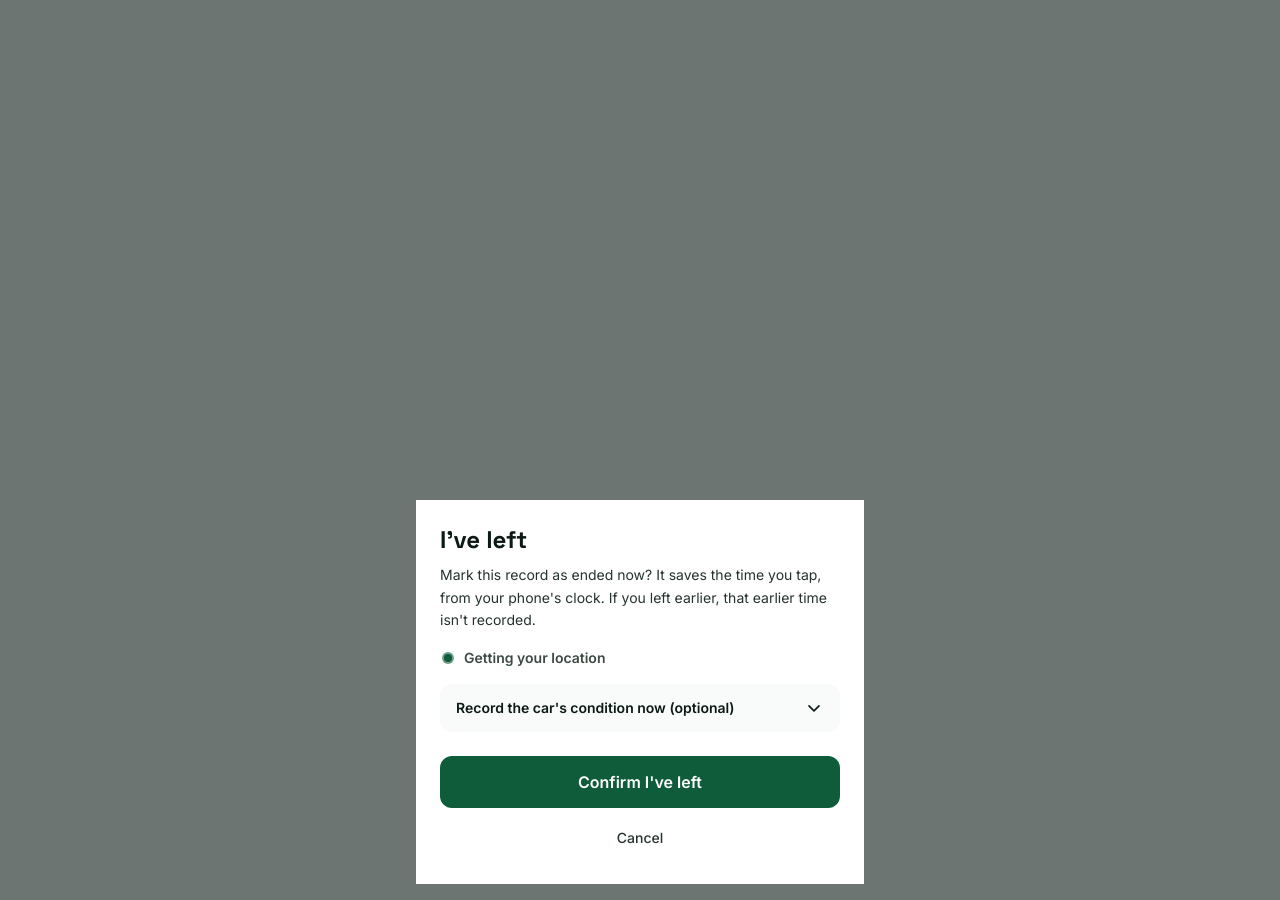
Test: DepartureSheet: condition on return › is collapsed above Confirm; opened, it shows a camera-only grid with the return roles
The width and height of the screenshot is (1280, 900).
Click the button "Record the car's condition now (optional)" at point(640, 708), box left=440, top=684, right=840, bottom=732
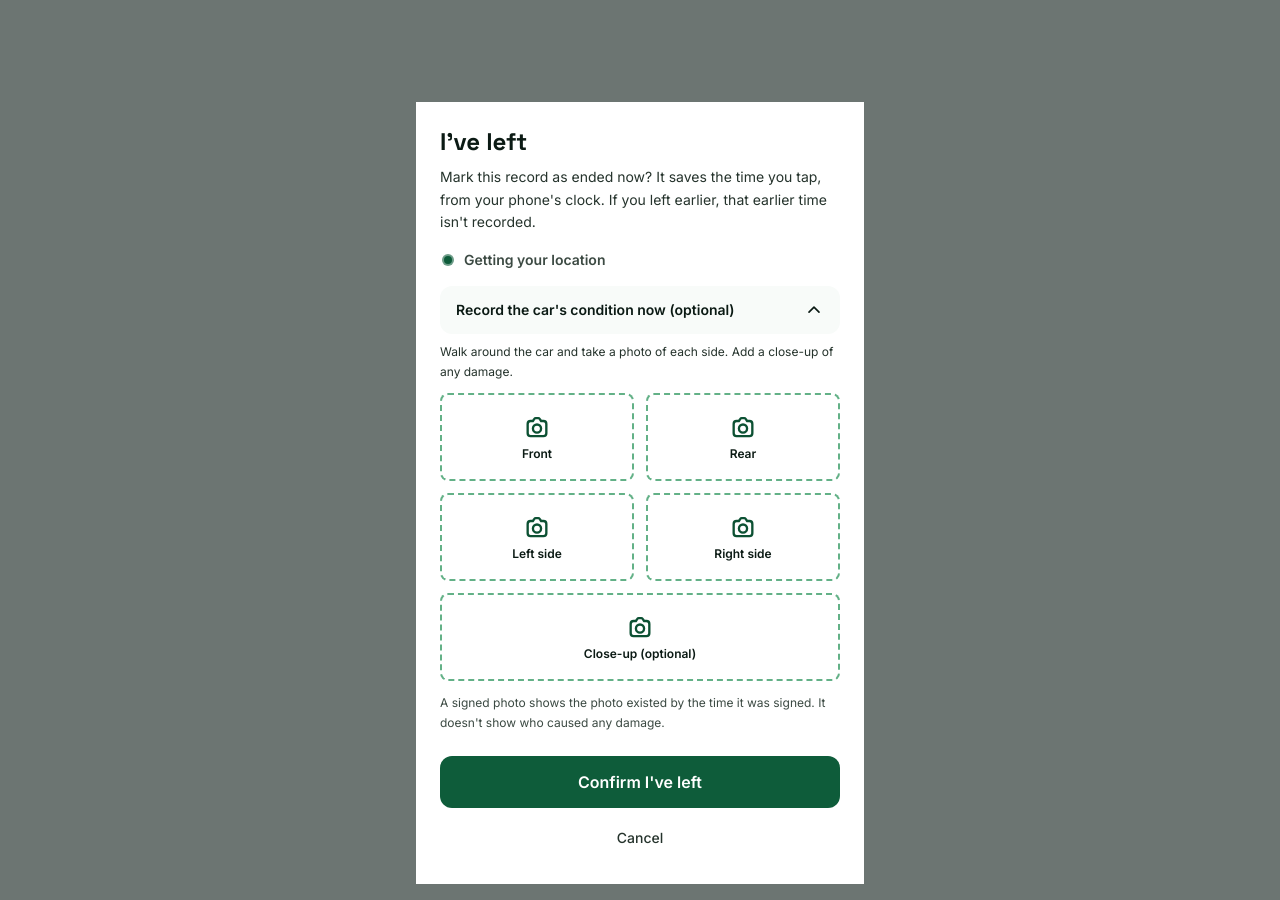
Check: the text "A signed photo shows the photo existed by the time it was signed. It doesn't show who caused any damage." is shown, box left=440, top=695, right=826, bottom=730
